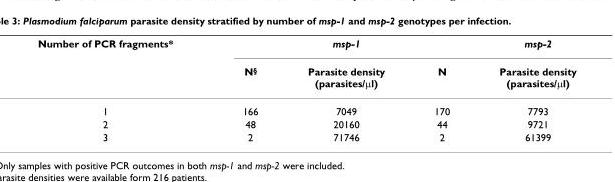table: (36, 36, 575, 142)
table column: (36, 36, 207, 142), (282, 36, 408, 142), (473, 36, 575, 142), (207, 36, 282, 142), (408, 36, 473, 142)
table column header: (36, 36, 575, 96)
table row: (36, 57, 575, 96), (36, 36, 575, 57), (36, 96, 575, 117), (36, 117, 575, 130), (36, 130, 575, 142)
table spanning cell: (36, 36, 207, 96), (282, 36, 408, 96), (473, 36, 575, 96), (207, 36, 282, 96), (408, 36, 473, 96)
